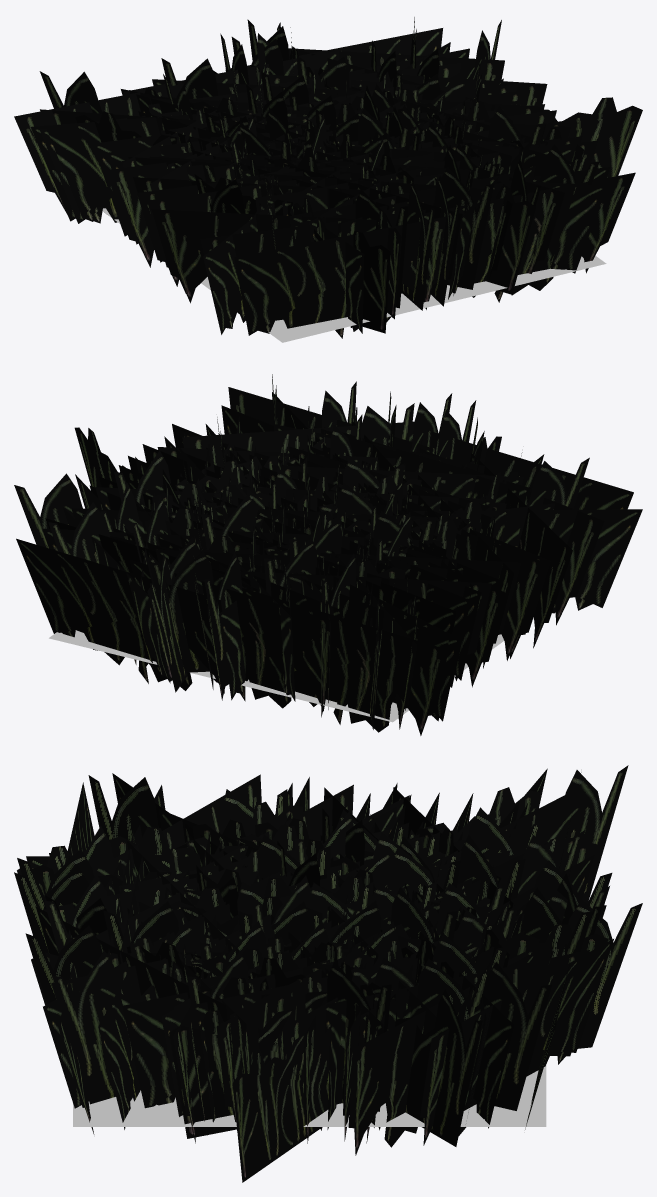
Rendered from grass_4.fbx.
The picture shows the model from 3 angles, top to bottom: view 1: azimuth 30°, elevation 25°; view 2: azimuth 150°, elevation 25°; view 3: azimuth 270°, elevation 25°; orthographic projection. The views are drawn at different scales.
Visible parts, largest first — view 1: Plane.015, Plane.008; view 2: Plane.015, Plane.008; view 3: Plane.015, Plane.008.
Boxes of the visible parts, x1,y1,x2,y2 form: Plane.015: [14, 17, 642, 338]; Plane.008: [102, 208, 606, 342]; Plane.015: [14, 374, 642, 735]; Plane.008: [49, 617, 533, 722]; Plane.015: [14, 765, 642, 1182]; Plane.008: [73, 1065, 546, 1126].
Size of the model in its own units: 151 by 47.11 by 133.
